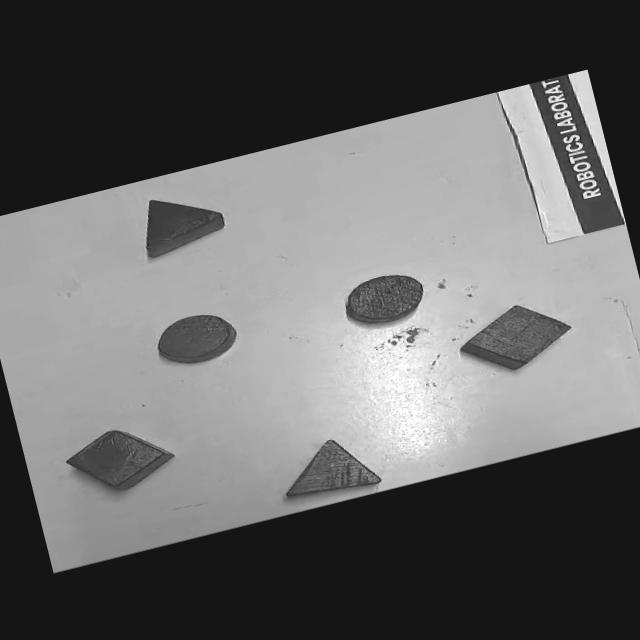bcircle: (339, 265, 430, 330)
bcube: (451, 292, 578, 381)
btriangle: (133, 182, 229, 260)
rcircle: (150, 305, 241, 371)
rcube: (60, 416, 181, 502)
rtriangle: (276, 429, 382, 506)
